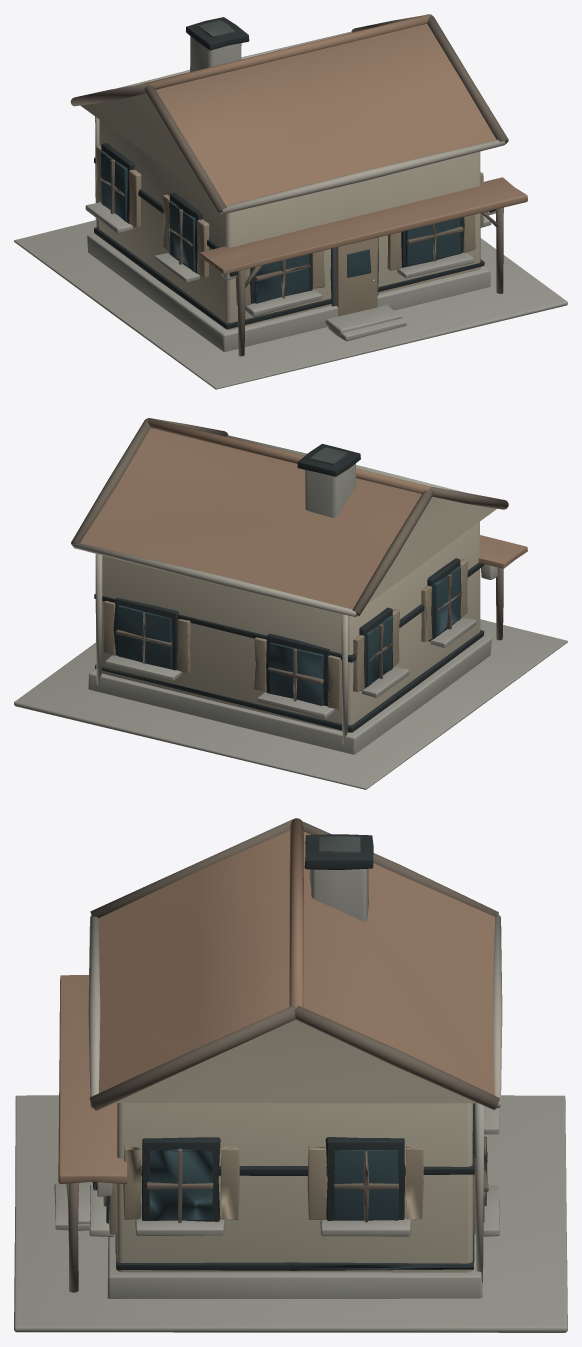
The model's file is district_art_4.glb.
3 views of the same model, one above another, from view 1: azimuth 30°, elevation 25°; view 2: azimuth 150°, elevation 25°; view 3: azimuth 270°, elevation 25° (orthographic). The views are drawn at different scales.
Visible parts, largest first — view 1: roof, stone, plaster, timber, glass, wood, trim, metal, dark; view 2: roof, stone, plaster, trim, glass, timber, metal, wood; view 3: roof, stone, plaster, timber, trim, glass, wood, metal, dark.
Part boxes in pixels (x1,y1,x2,y2): roof: (136,14,527,274); stone: (14,36,567,389); plaster: (80,93,480,329); timber: (70,14,508,356); glass: (100,151,461,303); wood: (95,145,483,316); trim: (94,17,495,329); metal: (95,31,505,282); dark: (198,20,378,306); roof: (80,418,527,609); stone: (14,463,567,789); plaster: (101,496,496,732); trim: (94,444,484,732); glass: (117,566,460,705); timber: (71,418,508,701); metal: (73,435,497,744); wood: (103,558,468,709); roof: (58,818,494,1184); stone: (14,868,567,1332); plaster: (114,1019,477,1272); timber: (68,819,499,1292); trim: (92,834,475,1270); glass: (106,1148,484,1223); wood: (109,1146,475,1234); metal: (88,915,502,1282); dark: (319,836,360,853).
Size of the model in its own units: 12.5 by 8.39 by 12.5.
